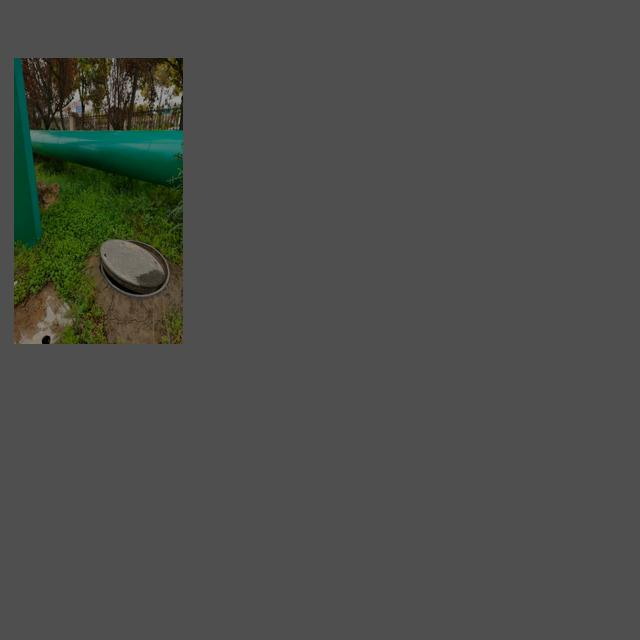uncovered: (99, 238, 170, 296)
